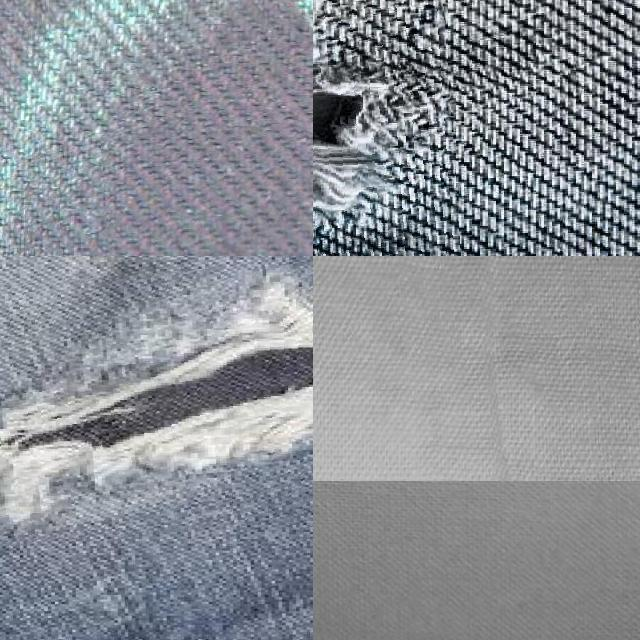other: (0, 264, 313, 539), (313, 0, 453, 256)
stains: (104, 125, 313, 256)
